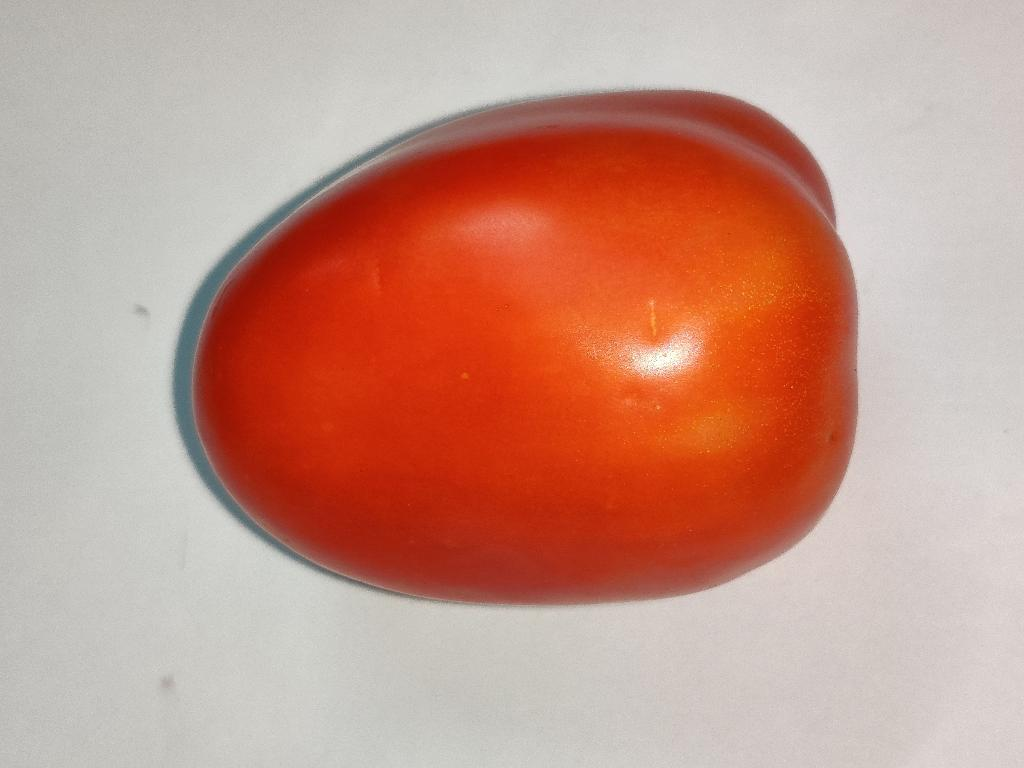tomato: (193, 91, 857, 603)
